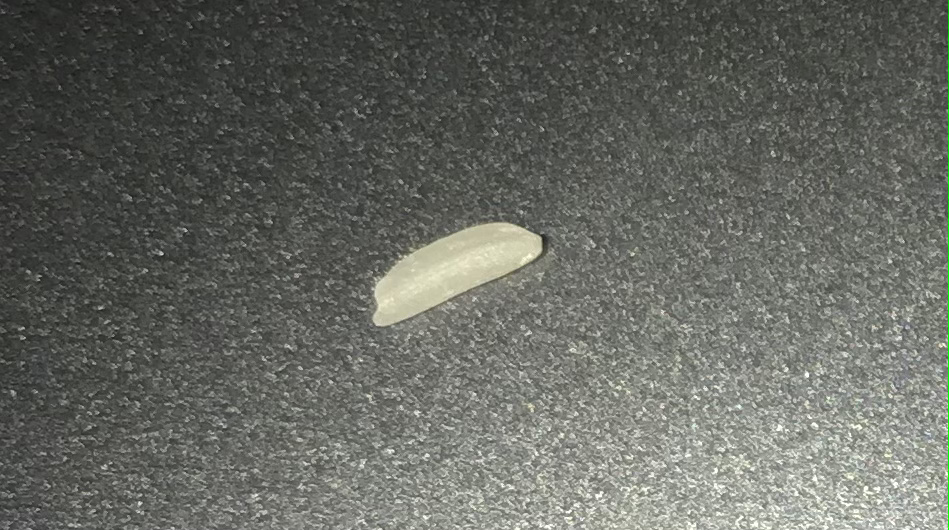Gao Tam Thom: (368, 203, 554, 328)
